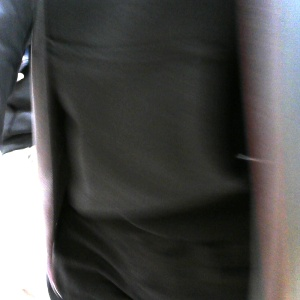Drone: (208, 9, 298, 296)
